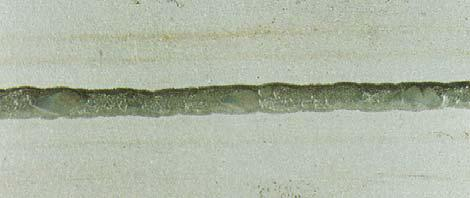soldas: (0, 66, 470, 137)
